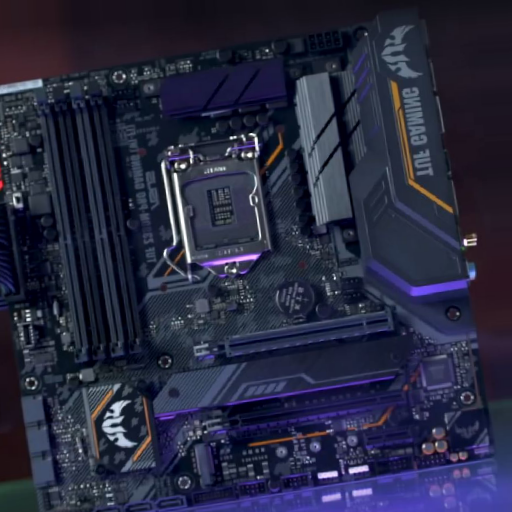CPU: (170, 133, 275, 277)
GPU: (192, 310, 394, 367), (196, 388, 405, 436)
MOTHERBOARD: (1, 21, 492, 508)
RAM: (36, 84, 144, 366)
SSD: (190, 442, 218, 488)
